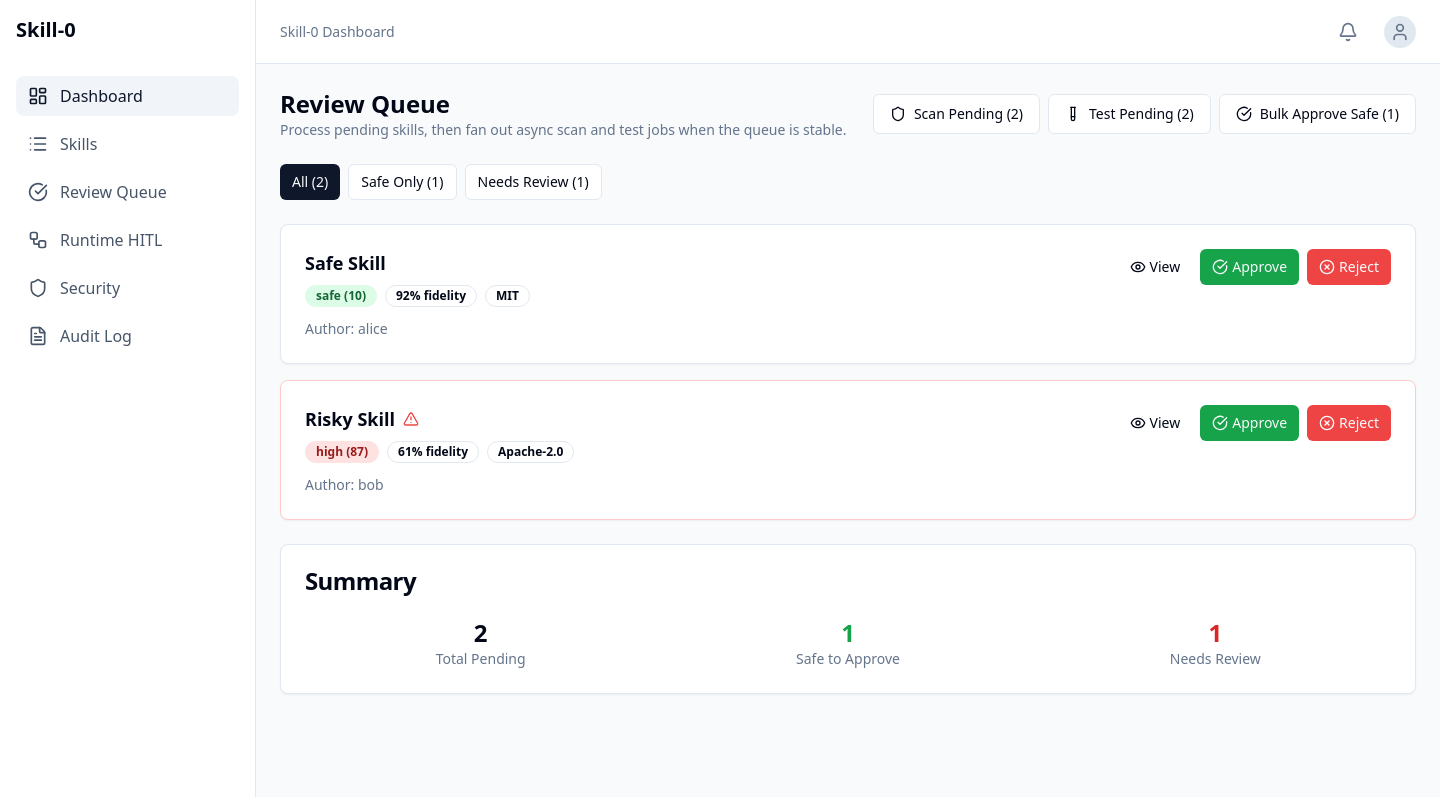
Test: ReviewQueue async action jobs › shows queued batch job details when expanded
Step 1. Click the button "Scan Pending (2)" → click(956, 114), box [873, 94, 1040, 134]
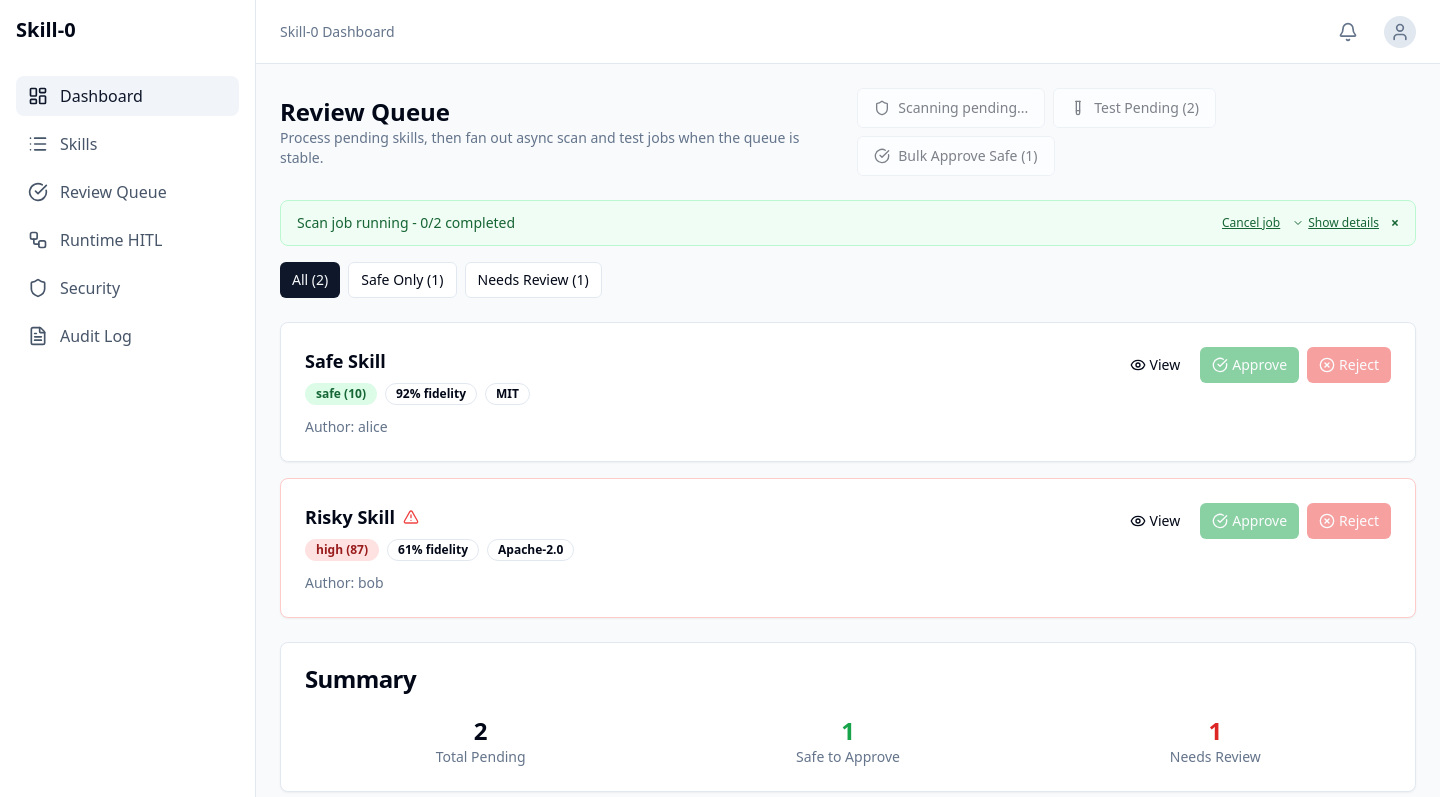
Step 2. Click the button "Show details" → click(1336, 223), box [1292, 215, 1379, 231]
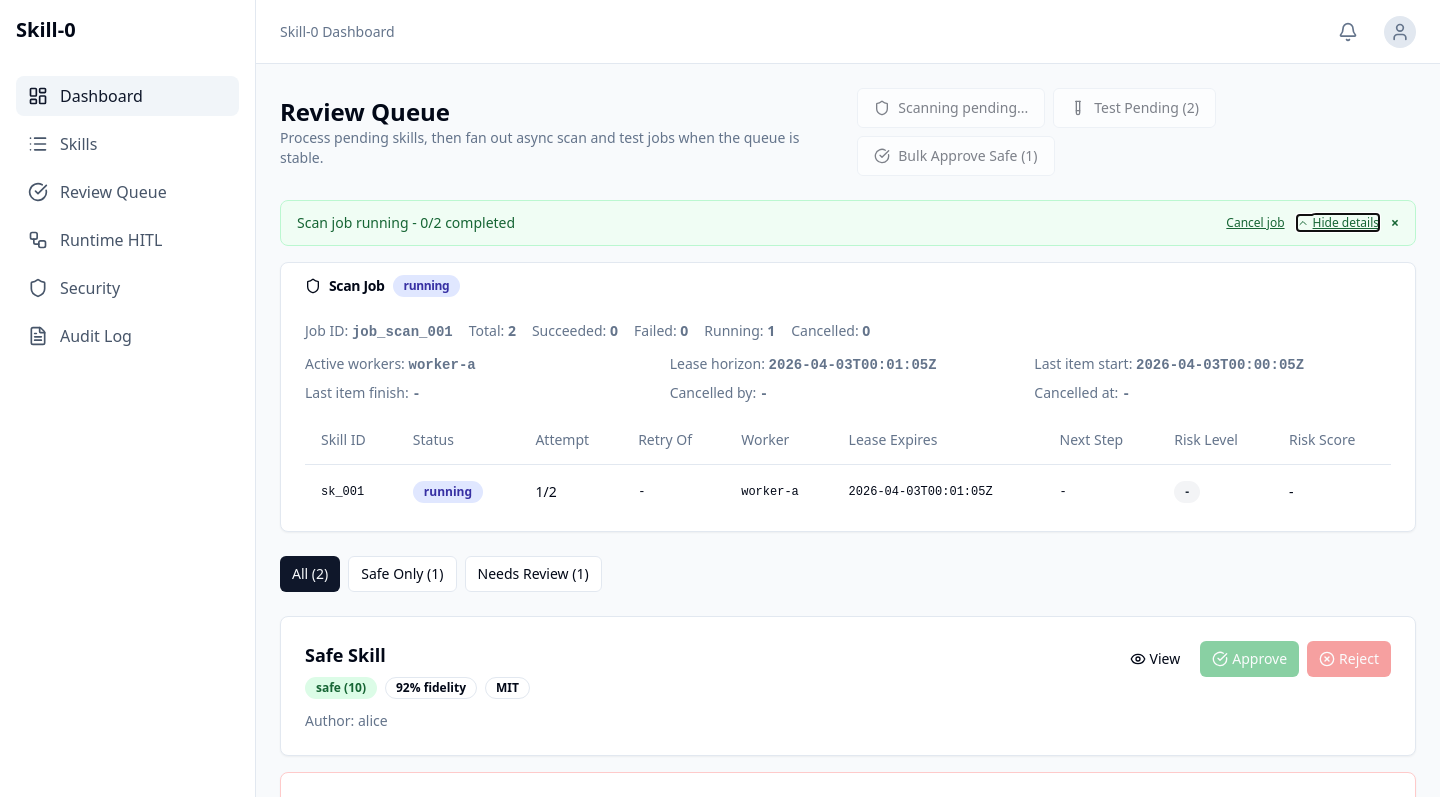
Result: the text "job_scan_001" is shown at [352, 324, 453, 340]
Result: the text "sk_001" is shown at [305, 464, 397, 518]
Result: the text "worker-a" is shown 2 times at [408, 357, 476, 373]; [725, 464, 833, 518]
